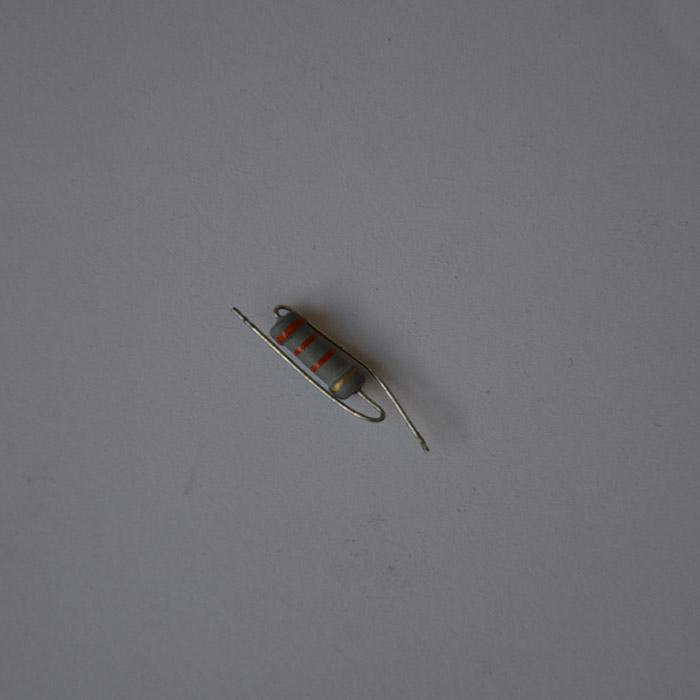resistor: (269, 307, 366, 399)
